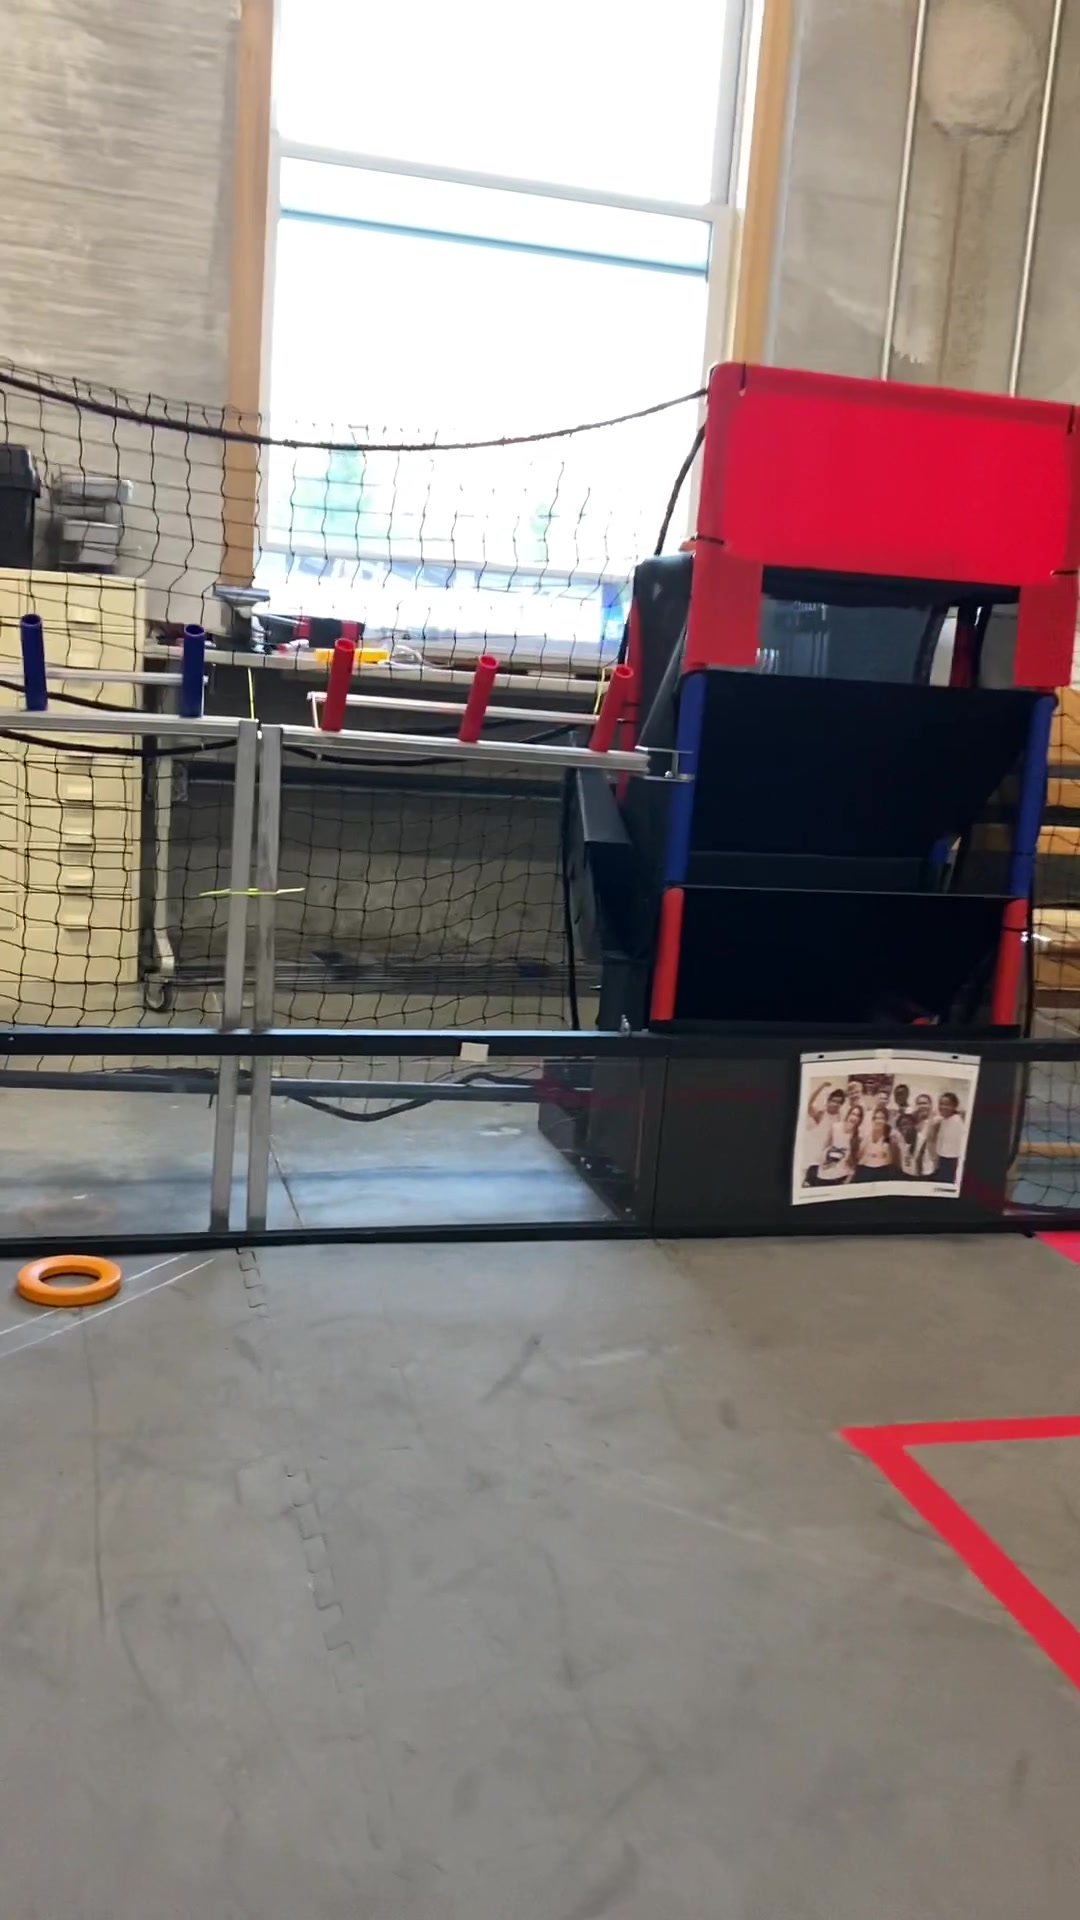high_goal: (764, 566, 1019, 692)
